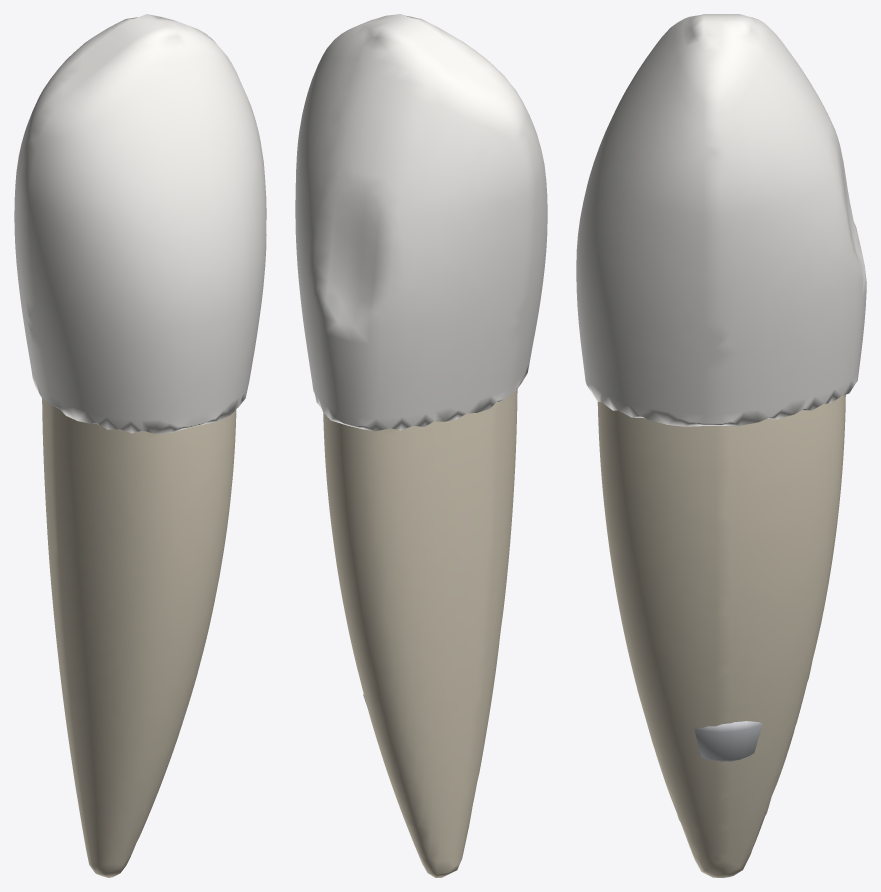
3 renders of one model, left to right at view 1: azimuth 30°, elevation 25°; view 2: azimuth 150°, elevation 25°; view 3: azimuth 270°, elevation 25°, orthographic. The views are drawn at different scales.
Visible parts, largest first — view 1: crown, root; view 2: crown, root; view 3: crown, root, implant.
Part boxes in pixels (<box>): crown: <box>14,14,266,433</box>; root: <box>42,398,236,877</box>; crown: <box>295,14,547,431</box>; root: <box>323,389,517,877</box>; crown: <box>576,14,866,426</box>; root: <box>597,394,845,877</box>; implant: <box>694,721,763,761</box>.
Bounding box in the file's own units: 7.69 × 27.3 × 8.17.
